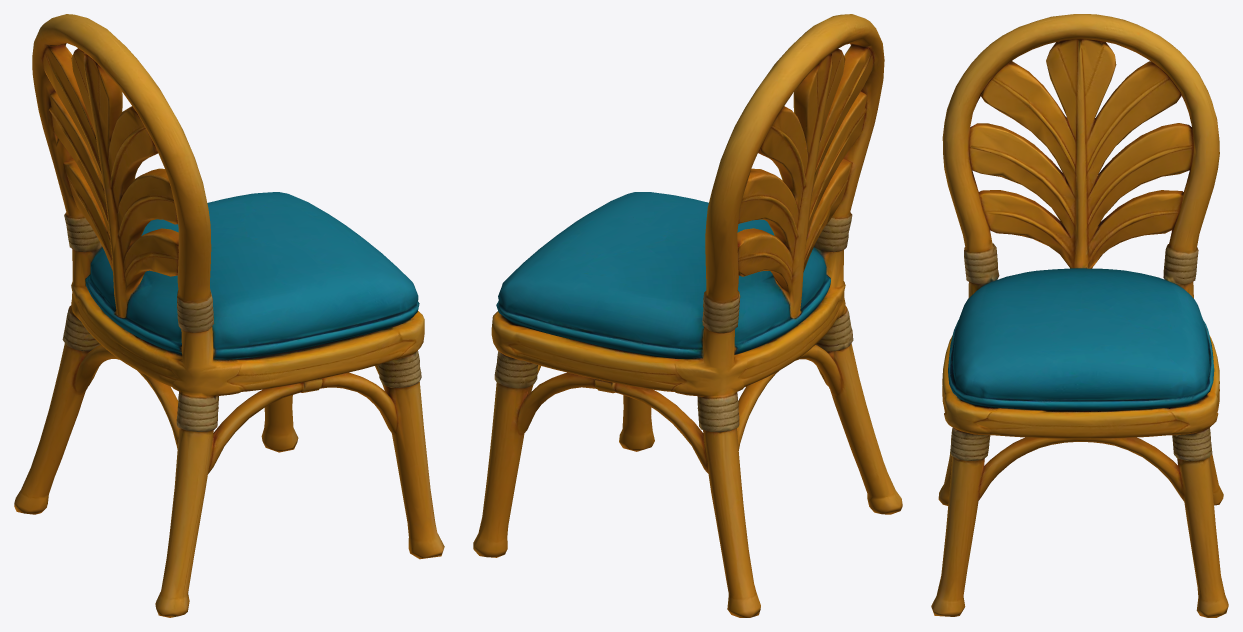
Rendered from SM_House_Chair.glb.
3 renders of one model, left to right at view 1: azimuth 30°, elevation 25°; view 2: azimuth 150°, elevation 25°; view 3: azimuth 270°, elevation 25°, orthographic. The views are drawn at different scales.
Visible parts, largest first — view 1: tripo_node_03f32299-e411-4f2e-ac3c-49a66fcfad0f; view 2: tripo_node_03f32299-e411-4f2e-ac3c-49a66fcfad0f; view 3: tripo_node_03f32299-e411-4f2e-ac3c-49a66fcfad0f.
Part boxes in pixels (x1,y1,x2,y2): tripo_node_03f32299-e411-4f2e-ac3c-49a66fcfad0f: [14, 14, 444, 617]; tripo_node_03f32299-e411-4f2e-ac3c-49a66fcfad0f: [473, 14, 902, 617]; tripo_node_03f32299-e411-4f2e-ac3c-49a66fcfad0f: [931, 14, 1228, 617].
Size of the model in its own units: 0.5683 by 1 by 0.5566.
Materials: 1 (1 with a texture image).
